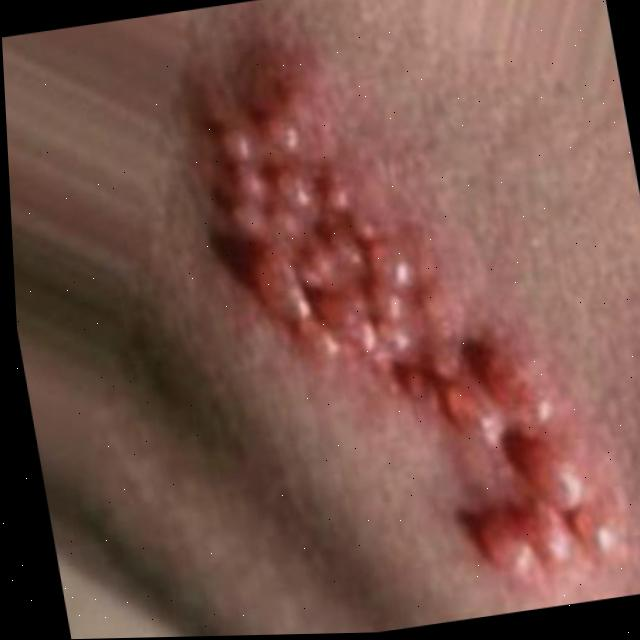Shingles: (192, 31, 623, 609)
